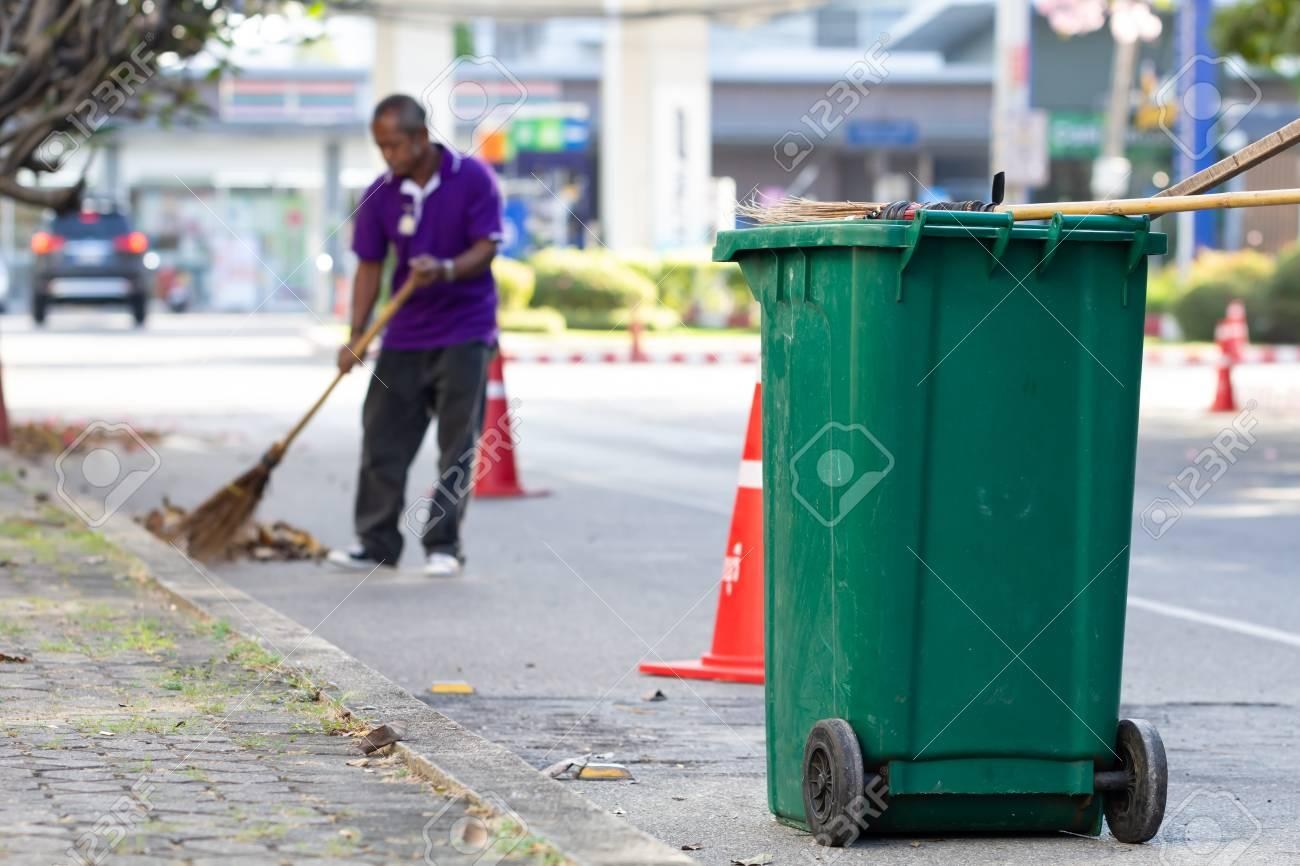garbage bin: (713, 211, 1165, 838)
pavement: (0, 454, 561, 863)
road: (216, 363, 1300, 863), (3, 310, 333, 510)
